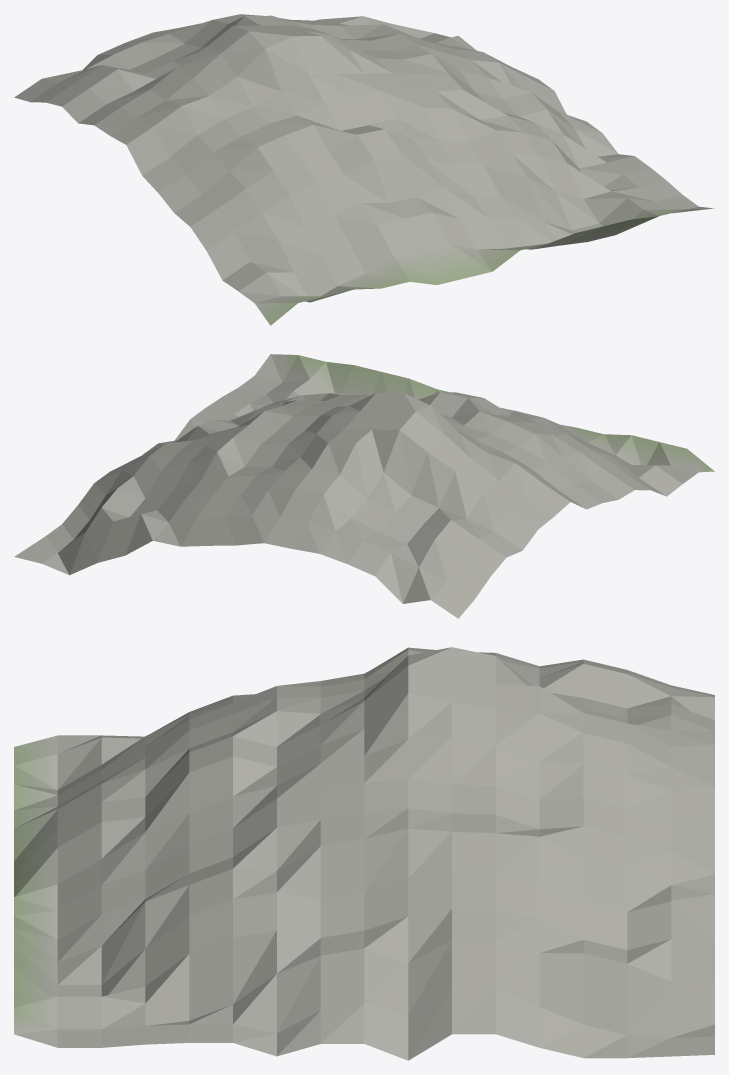
3 renders of one model, top to bottom at view 1: azimuth 30°, elevation 25°; view 2: azimuth 150°, elevation 25°; view 3: azimuth 270°, elevation 25°, orthographic. The views are drawn at different scales.
Size of the model in its own units: 32 by 10.61 by 32.
